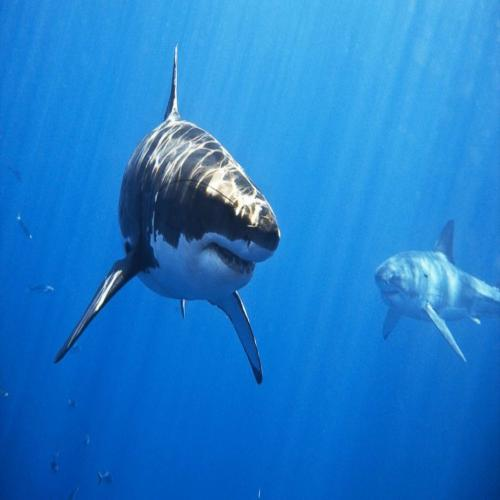shark-endangered: (114, 100, 283, 322), (372, 236, 499, 338)
